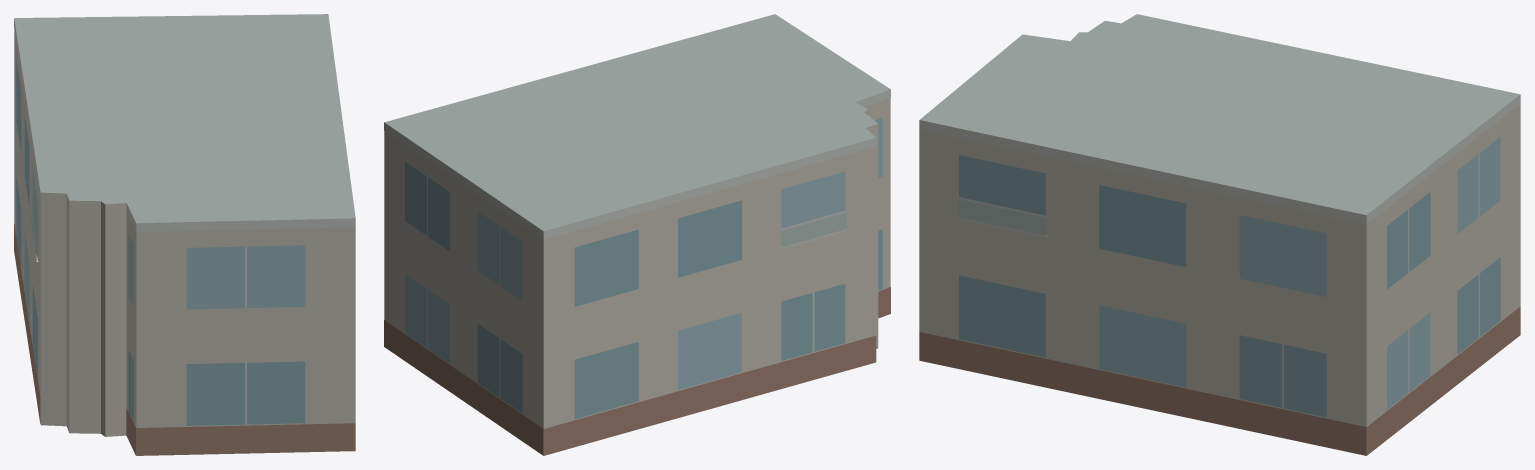
Rendered from survey-upis-32634251.glb.
3 renders of one model, left to right at view 1: azimuth 30°, elevation 25°; view 2: azimuth 150°, elevation 25°; view 3: azimuth 270°, elevation 25°, orthographic. The views are drawn at different scales.
Parts seen in each view (by area): view 1: survey-upis-32634251.tmp; view 2: survey-upis-32634251.tmp; view 3: survey-upis-32634251.tmp.
Part boxes in pixels (left/top/right/bottom): survey-upis-32634251.tmp: left=14, top=14, right=355, bottom=455; survey-upis-32634251.tmp: left=384, top=14, right=890, bottom=455; survey-upis-32634251.tmp: left=919, top=14, right=1520, bottom=455.
Bounding box in the file's own units: 11.49 × 6.4 × 14.5.
